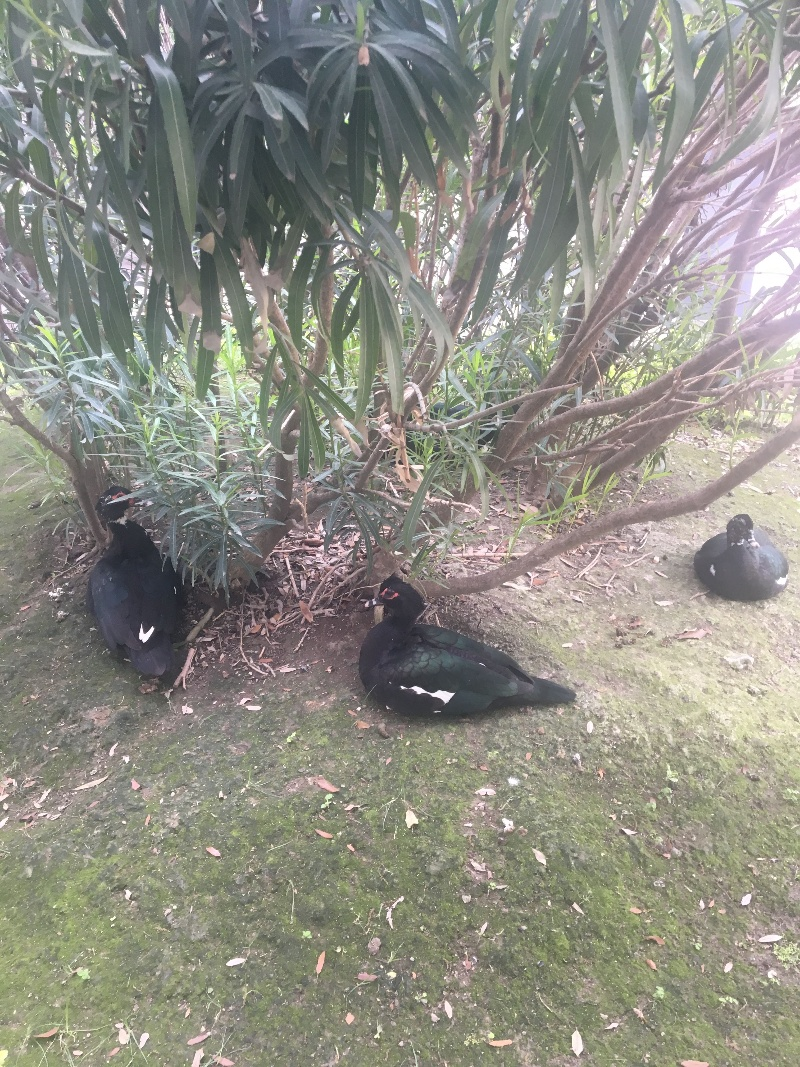pato: (357, 573, 574, 719), (90, 485, 188, 689), (693, 513, 782, 602)
